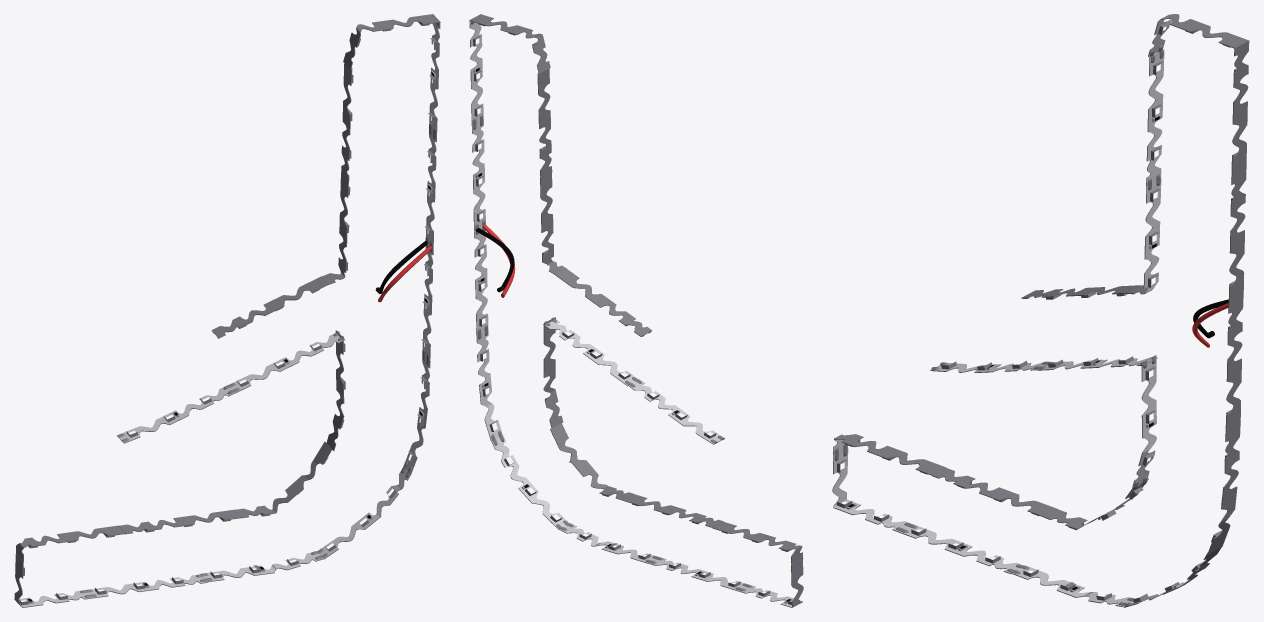
Rendered from FIXED.LED.glb.
3 views of the same model, side by side, from view 1: azimuth 30°, elevation 25°; view 2: azimuth 150°, elevation 25°; view 3: azimuth 330°, elevation 25° (orthographic). The views are drawn at different scales.
Visible parts, largest first — view 1: fixed.001; view 2: fixed.001; view 3: fixed.001.
Boxes of the visible parts, x1=… form: fixed.001: x1=14, y1=14, x2=440, y2=607; fixed.001: x1=469, y1=14, x2=803, y2=607; fixed.001: x1=832, y1=14, x2=1249, y2=607.
Bounding box in the file's own units: 37.21 × 48.41 × 7.39.
